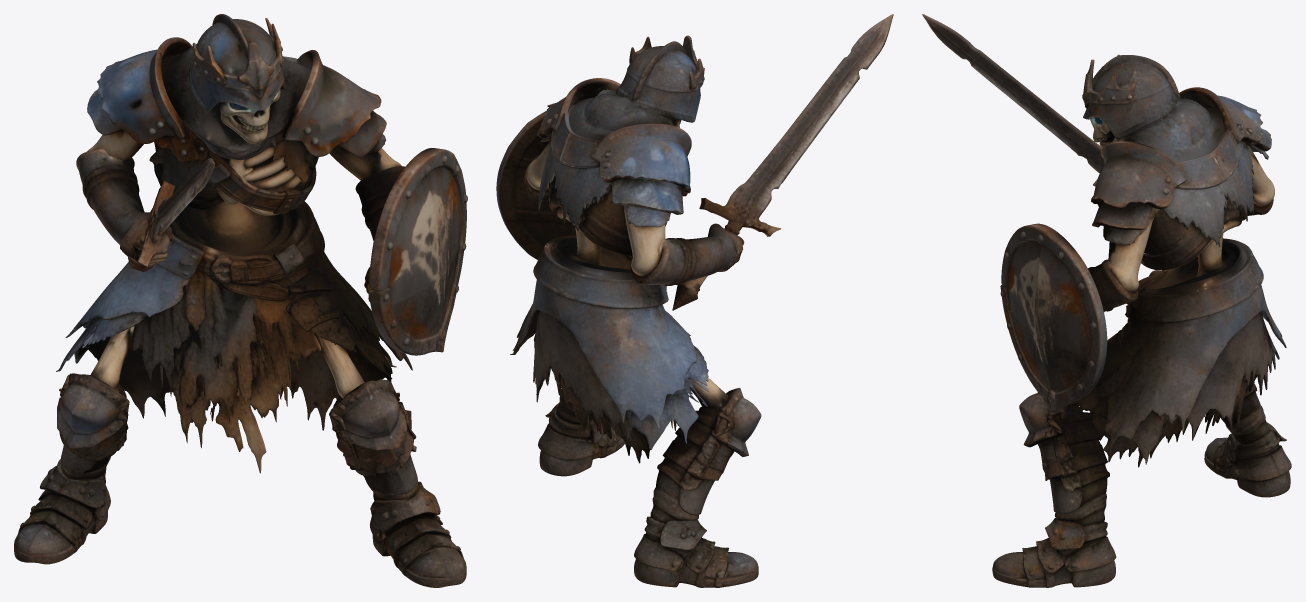
File: enemy_skeleton_warrior_01.glb
The picture shows the model from 3 angles, left to right: view 1: azimuth 30°, elevation 25°; view 2: azimuth 150°, elevation 25°; view 3: azimuth 270°, elevation 25°; orthographic projection. The views are drawn at different scales.
Visible parts, largest first — view 1: material; view 2: material; view 3: material.
Part boxes in pixels (<box>): material: <box>14,14,467,587</box>; material: <box>496,14,893,587</box>; material: <box>922,14,1291,587</box>.
Size of the model in its own units: 0.6431 by 0.8906 by 0.645.
Materials: 1 (1 with a texture image).
